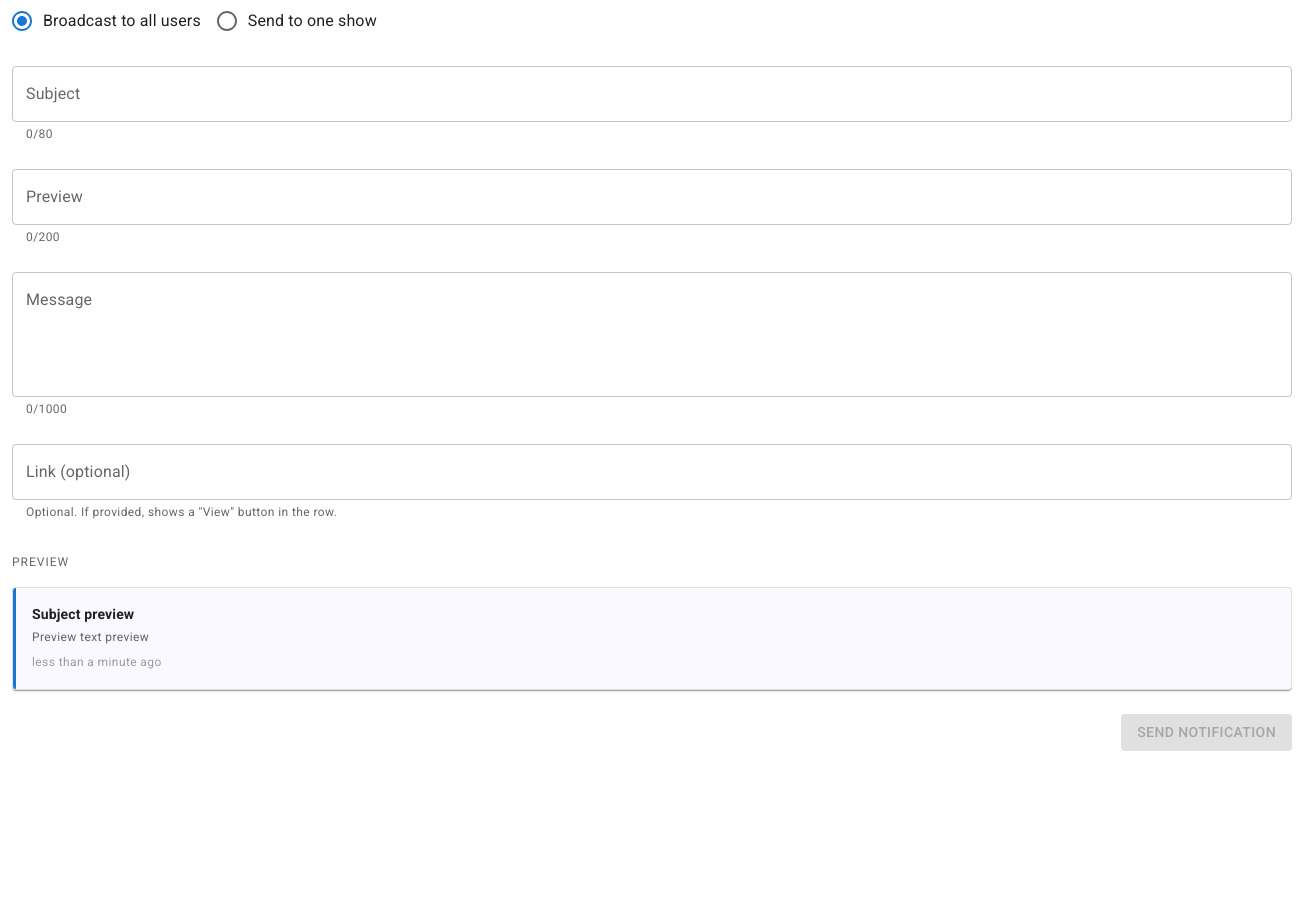
Scenario: SendForm validation › enables the Send button when subject, preview, and message are all filled
Type "A subject" into the field labelled "Subject" at (652, 94), box [12,66,1292,122]
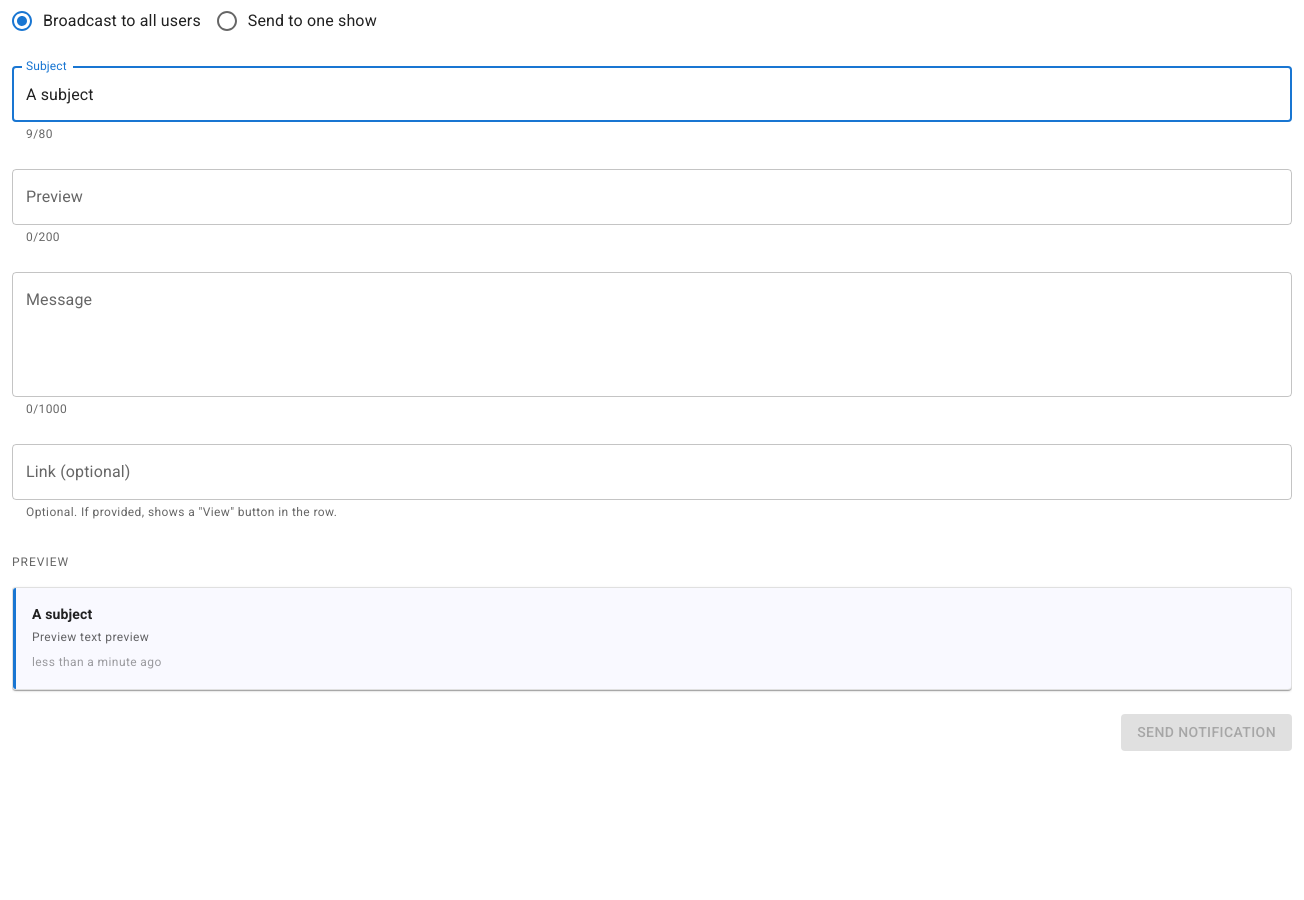
Type "A preview blurb" into the field labelled "Preview" at (652, 197), box [12,169,1292,225]
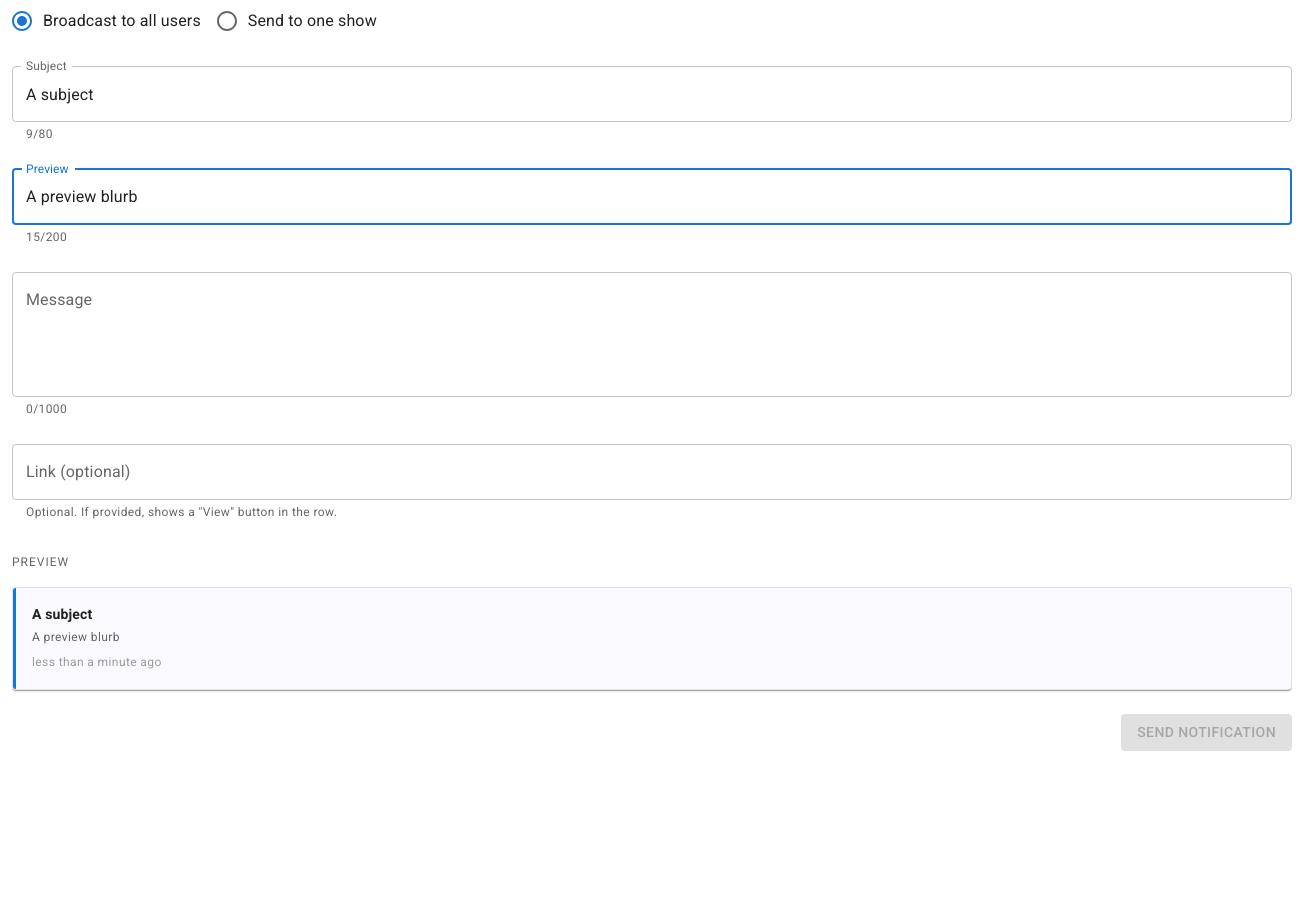
Type "The full message body of the broadcast." into the text box labelled "Message" at (652, 334), box [26,288,1278,380]
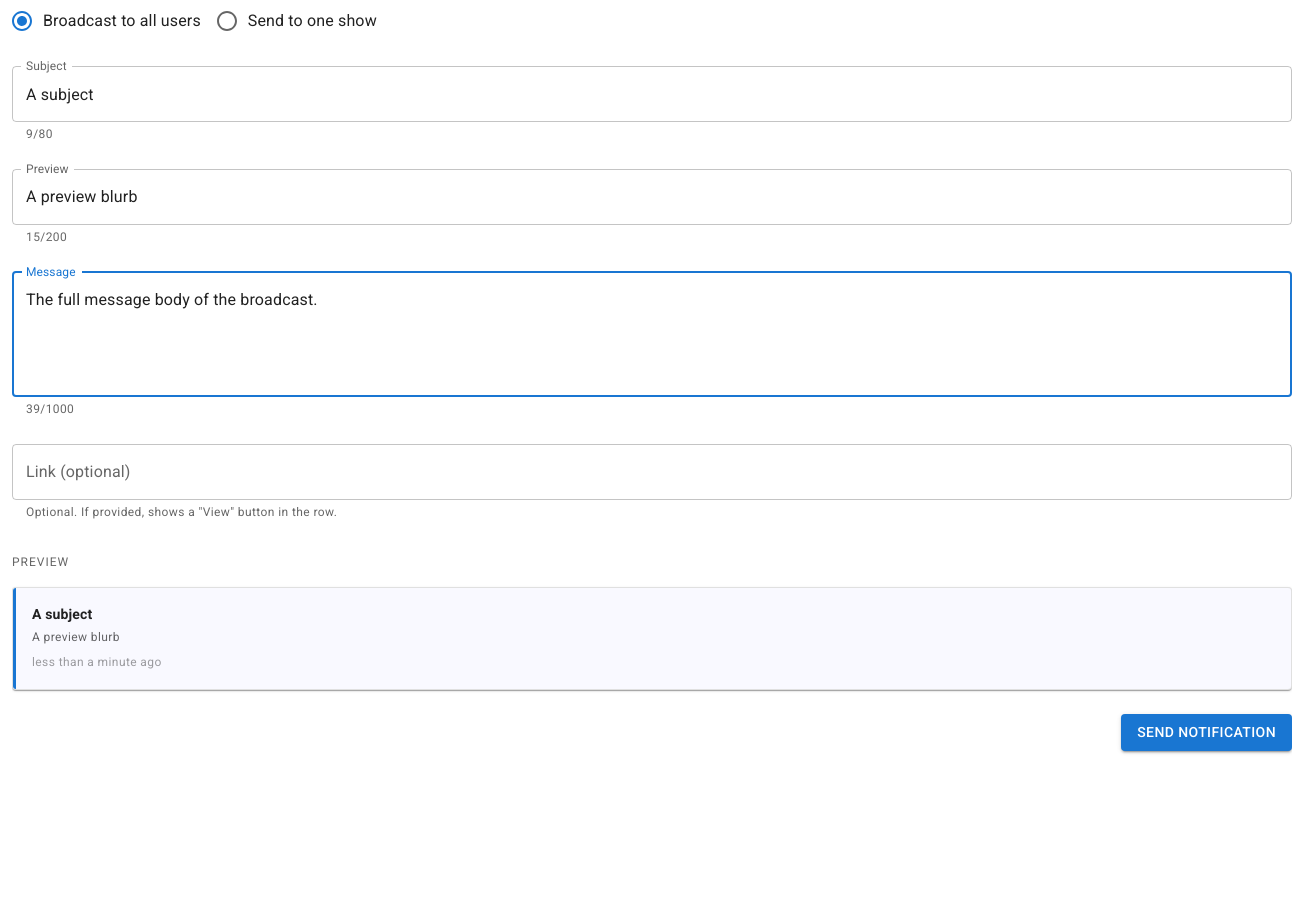
expect the button "Send notification" is enabled: met, box [1121,714,1292,751]
